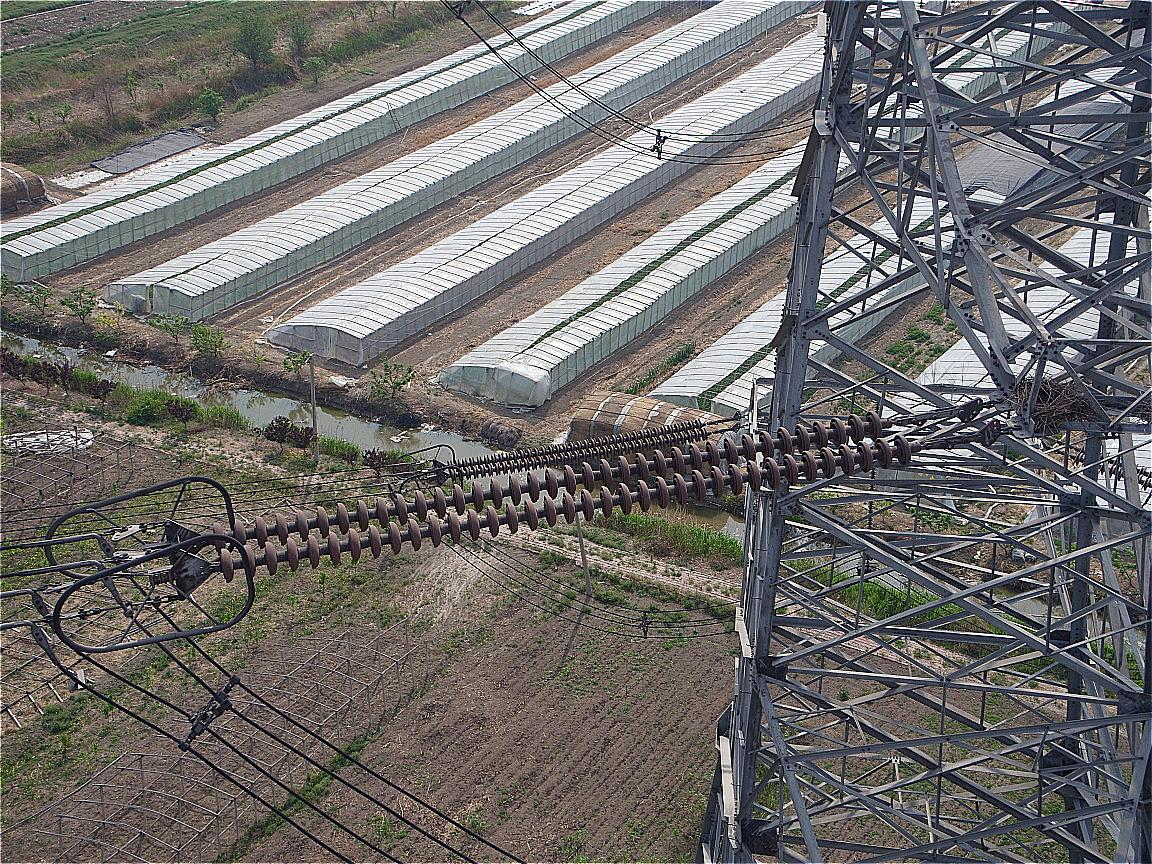insultor1: (195, 405, 941, 593)
